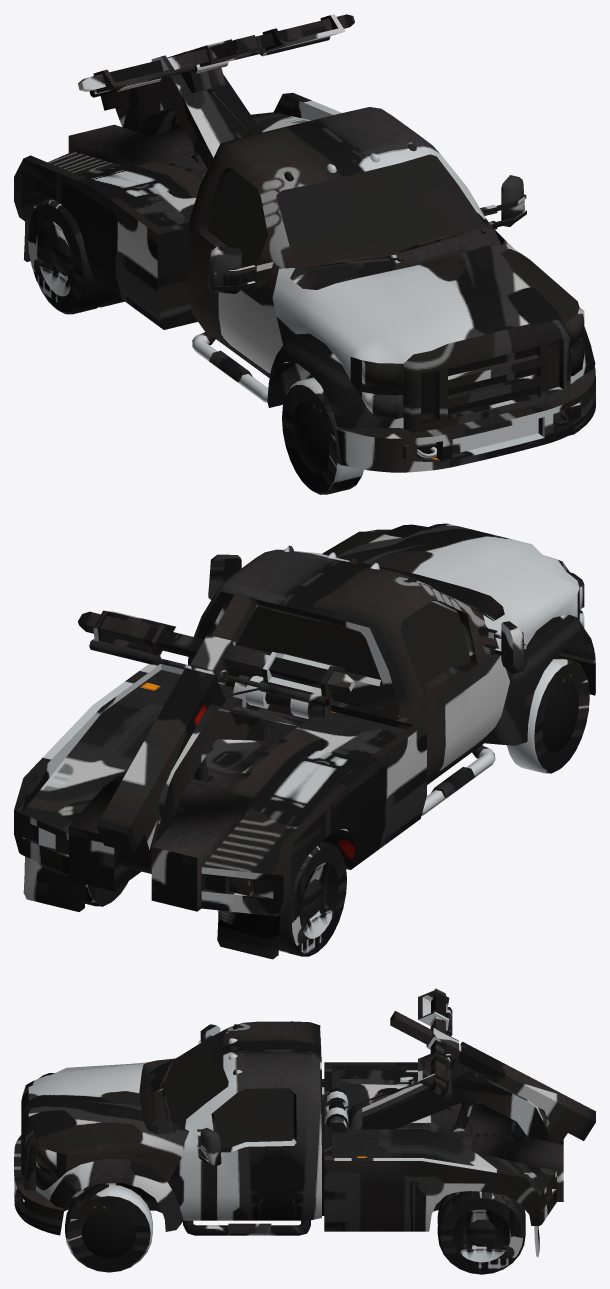
Rendered from car 6.fbx.
3 views of the same model, one above another, from view 1: azimuth 30°, elevation 25°; view 2: azimuth 150°, elevation 25°; view 3: azimuth 270°, elevation 25° (orthographic). The views are drawn at different scales.
Parts seen in each view (by area): view 1: body, T_B_R, T_F_R; view 2: body, T_F_R, T_B_R, T_B_L; view 3: body, T_F_L, T_B_L.
Part boxes in pixels (<box>): body: <box>14,14,595,472</box>; T_B_R: <box>28,199,124,314</box>; T_F_R: <box>282,377,363,494</box>; body: <box>14,523,595,959</box>; T_F_R: <box>507,655,589,773</box>; T_B_R: <box>278,841,346,956</box>; T_B_L: <box>85,881,128,906</box>; body: <box>14,988,595,1257</box>; T_F_L: <box>65,1184,152,1272</box>; T_B_L: <box>437,1191,525,1274</box>.
Bounding box in the file's own units: 271 × 233 × 578.
